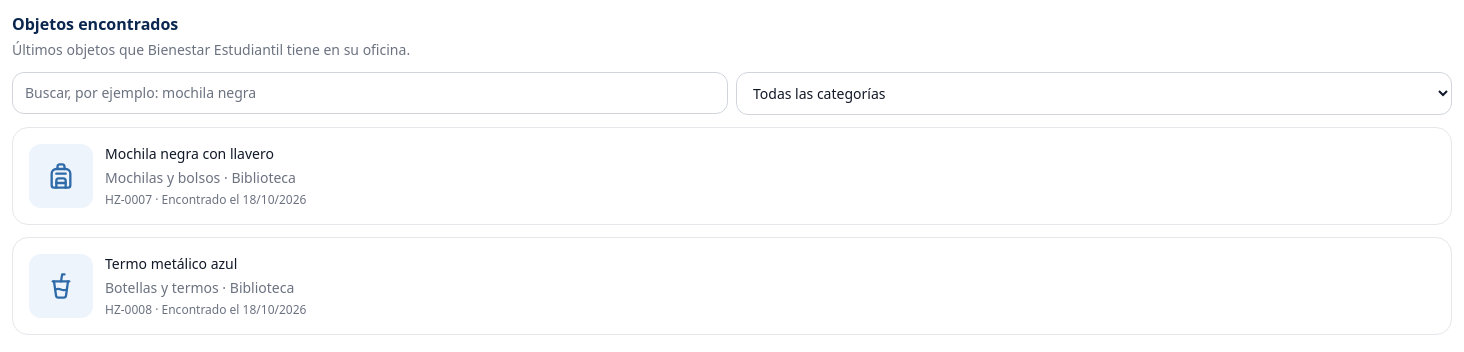
Test: Filtrar los objetos publicados por categoría › muestra solo los objetos de la categoría elegida
Select "Botellas y termos" in the dropdown named "Categoría" at (1094, 94), box [736,72,1452,115]
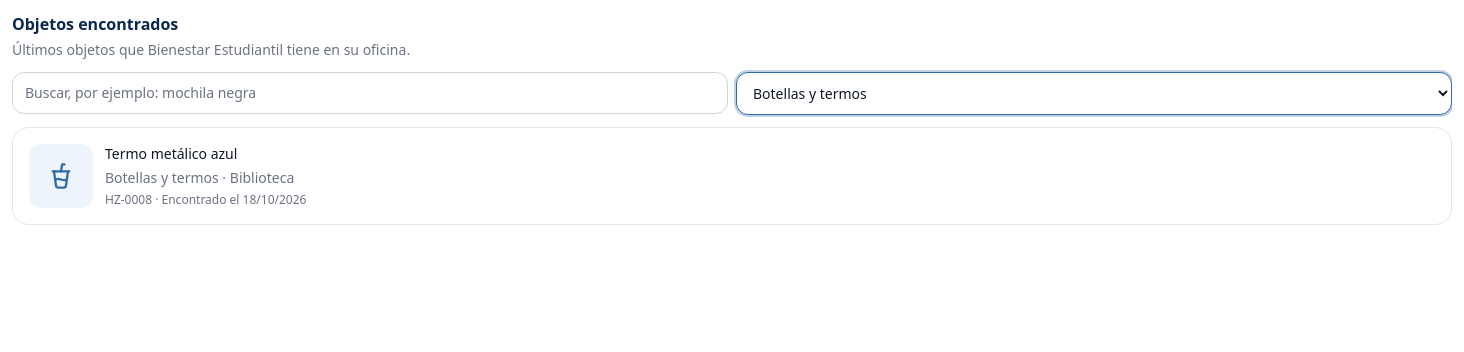
expect the text "Termo metálico azul" is shown: met, box [105,144,237,163]
expect the link "Mochila negra con llavero" is gone: met
